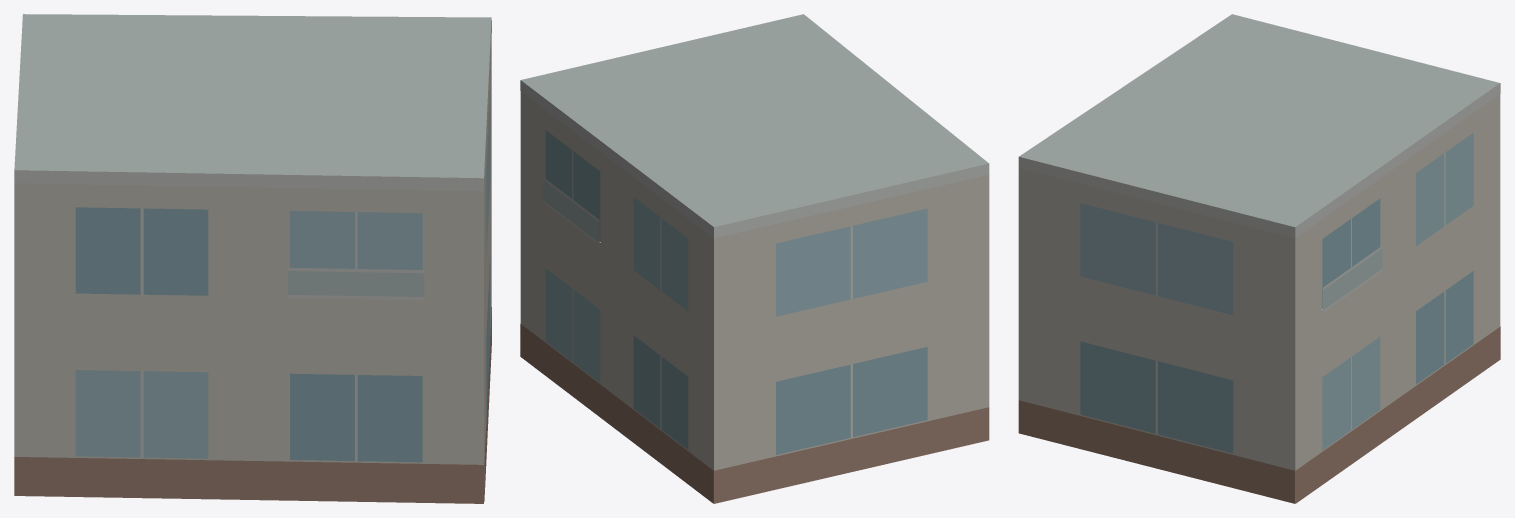
Rendered from survey-upis-32795390.glb.
3 views of the same model, side by side, from view 1: azimuth 30°, elevation 25°; view 2: azimuth 150°, elevation 25°; view 3: azimuth 270°, elevation 25° (orthographic). The views are drawn at different scales.
Parts seen in each view (by area): view 1: survey-upis-32795390.tmp; view 2: survey-upis-32795390.tmp; view 3: survey-upis-32795390.tmp.
Boxes of the visible parts, <box> form: survey-upis-32795390.tmp: <box>14,14,491,503</box>; survey-upis-32795390.tmp: <box>520,14,989,503</box>; survey-upis-32795390.tmp: <box>1018,14,1500,503</box>.
Bounding box in the file's own units: 10.1 × 6.1 × 9.64.
